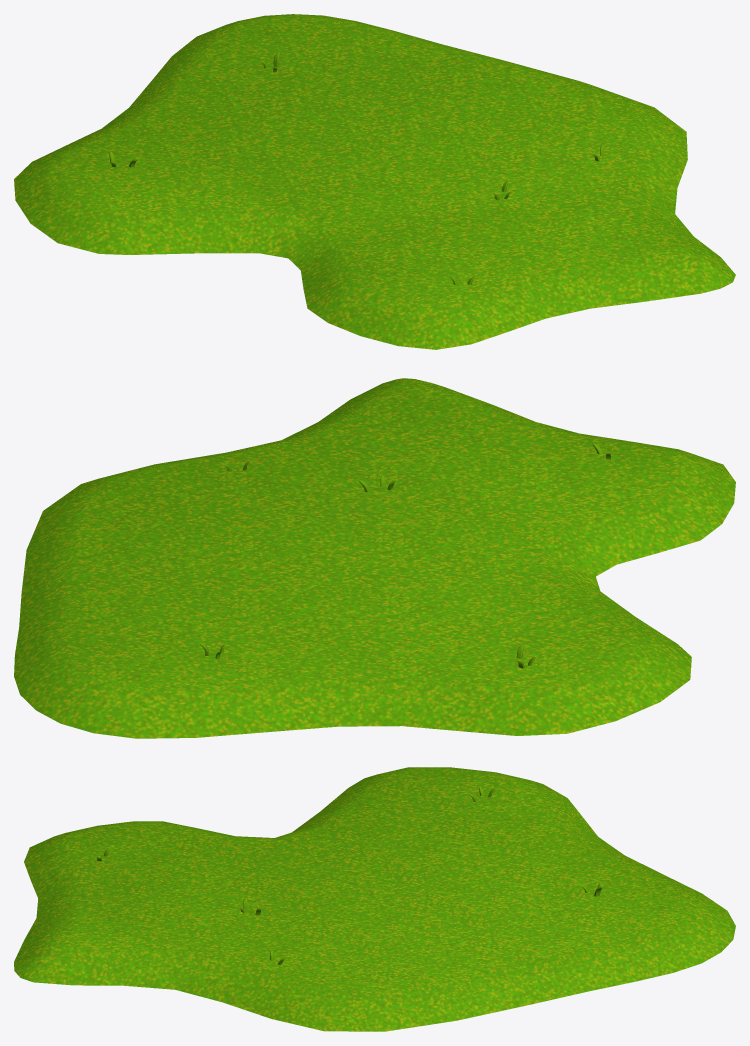
Rendered from GrassBig2.fbx.
3 renders of one model, top to bottom at view 1: azimuth 30°, elevation 25°; view 2: azimuth 150°, elevation 25°; view 3: azimuth 270°, elevation 25°, orthographic. The views are drawn at different scales.
Visible parts, largest first — view 1: GrassBig2_LOD0; view 2: GrassBig2_LOD0; view 3: GrassBig2_LOD0.
Part boxes in pixels (x1,y1,x2,y2): GrassBig2_LOD0: (14, 14, 735, 349); GrassBig2_LOD0: (14, 378, 735, 738); GrassBig2_LOD0: (14, 767, 735, 1031).
Size of what is drawn, in the model's own units: 3876 by 205 by 4508.
